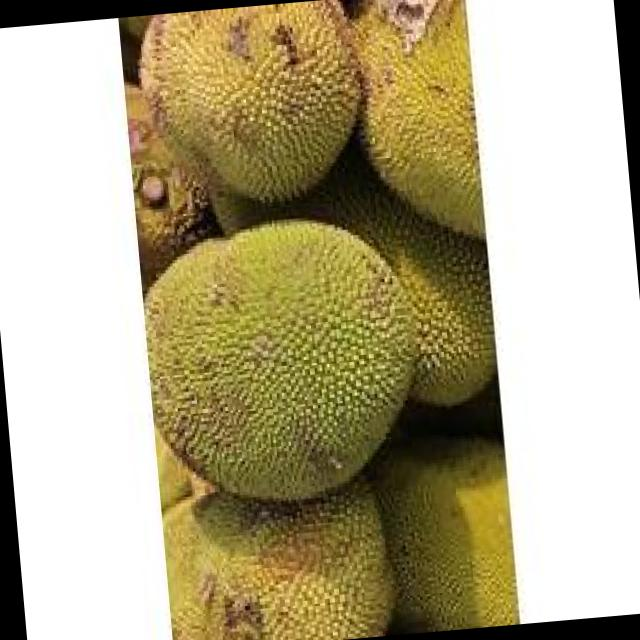Fruit: (135, 184, 484, 532), (120, 0, 400, 227)
